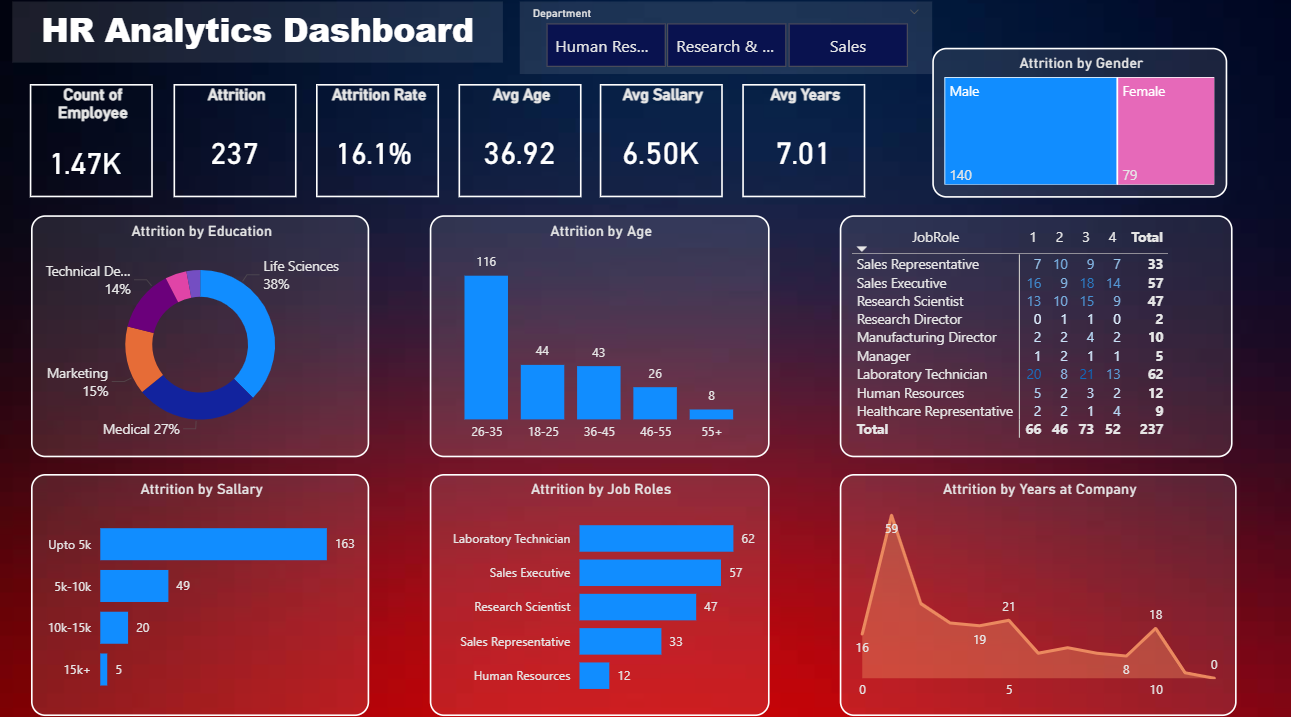

This screenshot's page, from the dashboard's own definition file:
{"tool":"powerbi","page":{"name":"Page 2","canvas":[1280,720],"ordinal":0},"visuals":[{"type":"cardVisual","title":"Attrition","fields":{"Data":["Sum(HR_Analytics.AttritionCount)"]},"box":[174.3,93.3,120.8,111.1],"z":0},{"type":"cardVisual","title":"Avg Age","fields":{"Data":["Avg(HR_Analytics.Age)"]},"box":[454.2,93.3,120.8,111.1],"z":1000},{"type":"cardVisual","title":"Count of Employee","fields":{"Data":["CountNonNull(HR_Analytics.EmpID)"]},"box":[32.9,93.3,120.8,111.1],"z":2000},{"type":"cardVisual","title":"Attrition Rate","fields":{"Data":["HR_Analytics.AttritionRate"]},"box":[314.2,93.3,120.8,111.1],"z":3000},{"type":"cardVisual","title":"Avg Sallary","fields":{"Data":["Avg(HR_Analytics.MonthlyIncome)"]},"box":[592.8,93.3,120.8,111.1],"z":4000},{"type":"cardVisual","title":"Avg Years","fields":{"Data":["Avg(HR_Analytics.YearsAtCompany)"]},"box":[732.8,93.3,120.8,111.1],"z":5000},{"type":"donutChart","title":"Attrition by Education","fields":{"Category":["HR_Analytics.EducationField"],"Y":["Sum(HR_Analytics.AttritionCount)"]},"box":[34.3,222.3,332.1,237.4],"z":6000},{"type":"pivotTable","fields":{"Rows":["HR_Analytics.JobRole"],"Columns":["HR_Analytics.JobSatisfaction"],"Values":["Sum(HR_Analytics.AttritionCount)"]},"box":[828.8,222.3,385.6,237.4],"z":7000},{"type":"columnChart","title":"Attrition by Age","fields":{"Category":["HR_Analytics.AgeGroup"],"Y":["Sum(HR_Analytics.AttritionCount)"]},"box":[425.4,222.3,333.4,237.4],"z":8000},{"type":"barChart","title":"Attrition by Sallary","fields":{"Category":["HR_Analytics.SalarySlab"],"Y":["Sum(HR_Analytics.AttritionCount)"]},"box":[34.3,476.2,332.1,237.4],"z":9000},{"type":"barChart","title":"Attrition by Job Roles","fields":{"Category":["HR_Analytics.JobRole"],"Y":["Sum(HR_Analytics.AttritionCount)"]},"box":[425.4,476.2,333.4,237.4],"z":10000},{"type":"areaChart","title":"Attrition by Years at Company","fields":{"Category":["HR_Analytics.YearsAtCompany"],"Y":["Sum(HR_Analytics.AttritionCount)"]},"box":[828.8,476.2,389.7,237.4],"z":11000},{"type":"treemap","title":"Attrition by Gender","fields":{"Group":["HR_Analytics.Gender"],"Values":["Sum(HR_Analytics.AttritionCount)"]},"box":[919.4,57.6,289.5,146.8],"z":12000},{"type":"textbox","box":[16.5,12.3,481.6,60.4],"z":13000},{"type":"slicer","fields":{"Values":["HR_Analytics.Department"]},"box":[514.6,12.3,404.8,71.4],"z":14000}]}

Visuals, with their boxes in screenshot pixels (x1, y1, x2, y2), scaled from the page's 1280x720 canvas onto the 1291x717 screenshot:
"Attrition" cardVisual: (left=176, top=93, right=298, bottom=204)
"Avg Age" cardVisual: (left=458, top=93, right=580, bottom=204)
"Count of Employee" cardVisual: (left=33, top=93, right=155, bottom=204)
"Attrition Rate" cardVisual: (left=317, top=93, right=439, bottom=204)
"Avg Sallary" cardVisual: (left=598, top=93, right=720, bottom=204)
"Avg Years" cardVisual: (left=739, top=93, right=861, bottom=204)
"Attrition by Education" donutChart: (left=35, top=221, right=370, bottom=458)
pivotTable - HR_Analytics.JobRole x HR_Analytics.JobSatisfaction: (left=836, top=221, right=1225, bottom=458)
"Attrition by Age" columnChart: (left=429, top=221, right=765, bottom=458)
"Attrition by Sallary" barChart: (left=35, top=474, right=370, bottom=711)
"Attrition by Job Roles" barChart: (left=429, top=474, right=765, bottom=711)
"Attrition by Years at Company" areaChart: (left=836, top=474, right=1229, bottom=711)
"Attrition by Gender" treemap: (left=927, top=57, right=1219, bottom=204)
textbox: (left=17, top=12, right=502, bottom=72)
slicer - HR_Analytics.Department: (left=519, top=12, right=927, bottom=83)
